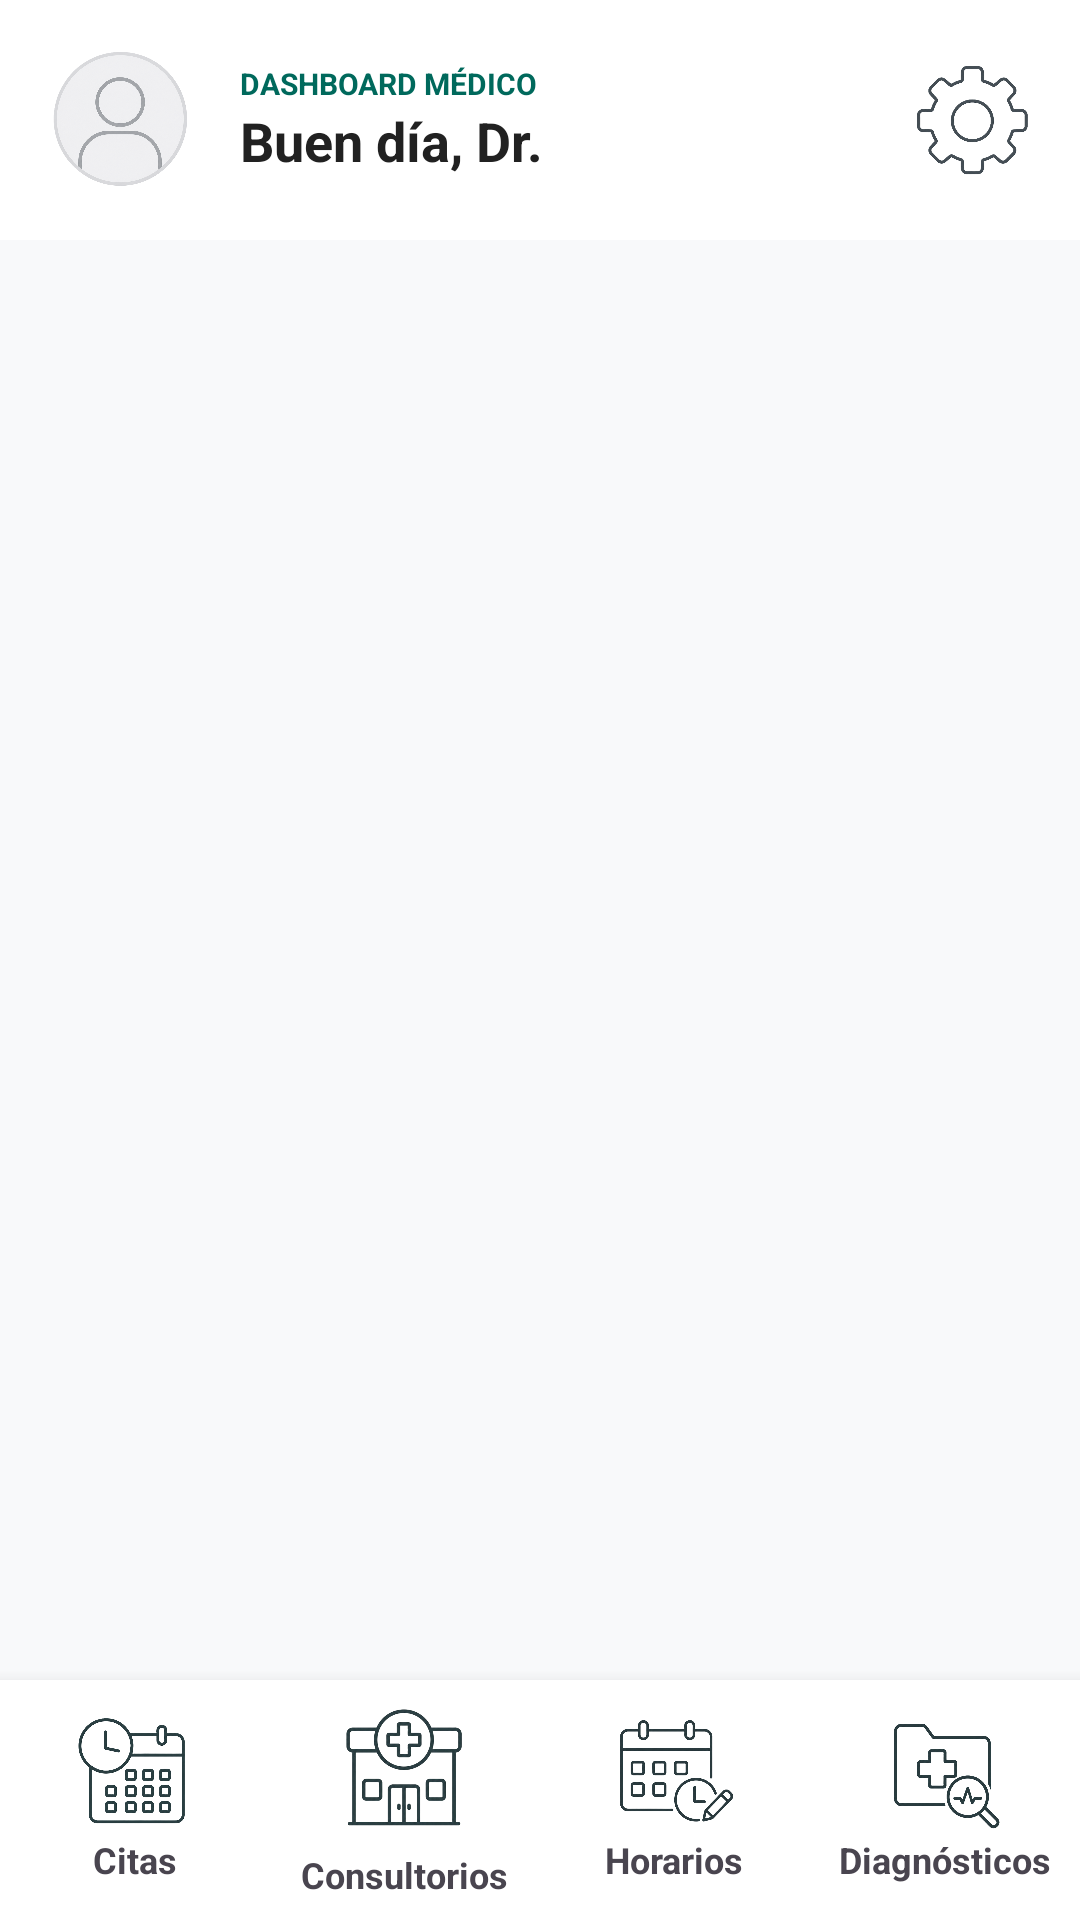

Point at icon controls on the screen. Image size 1080px x 1920px, points as (x,y).
configuration: (972,120)
user: (120,119)
